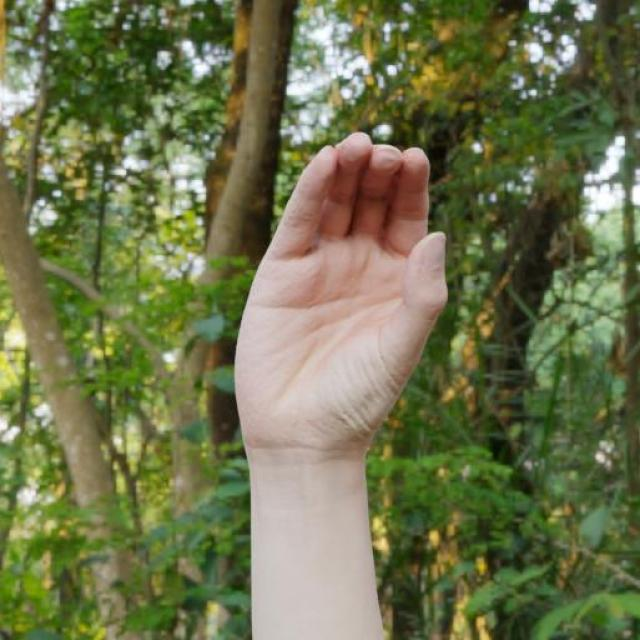C: (234, 131, 450, 451)
